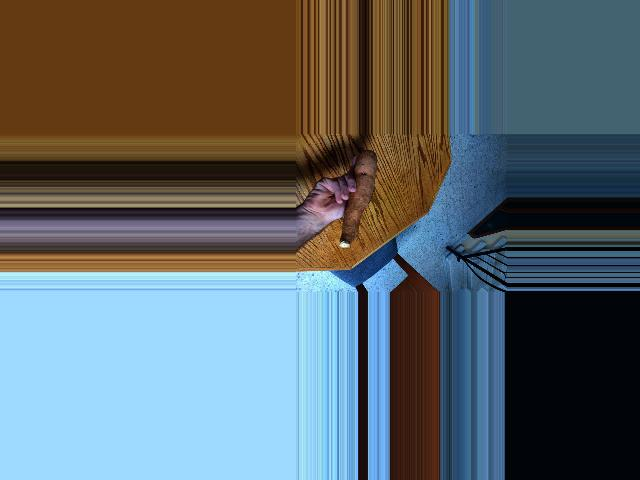sweet_potato: (335, 152, 381, 250)
